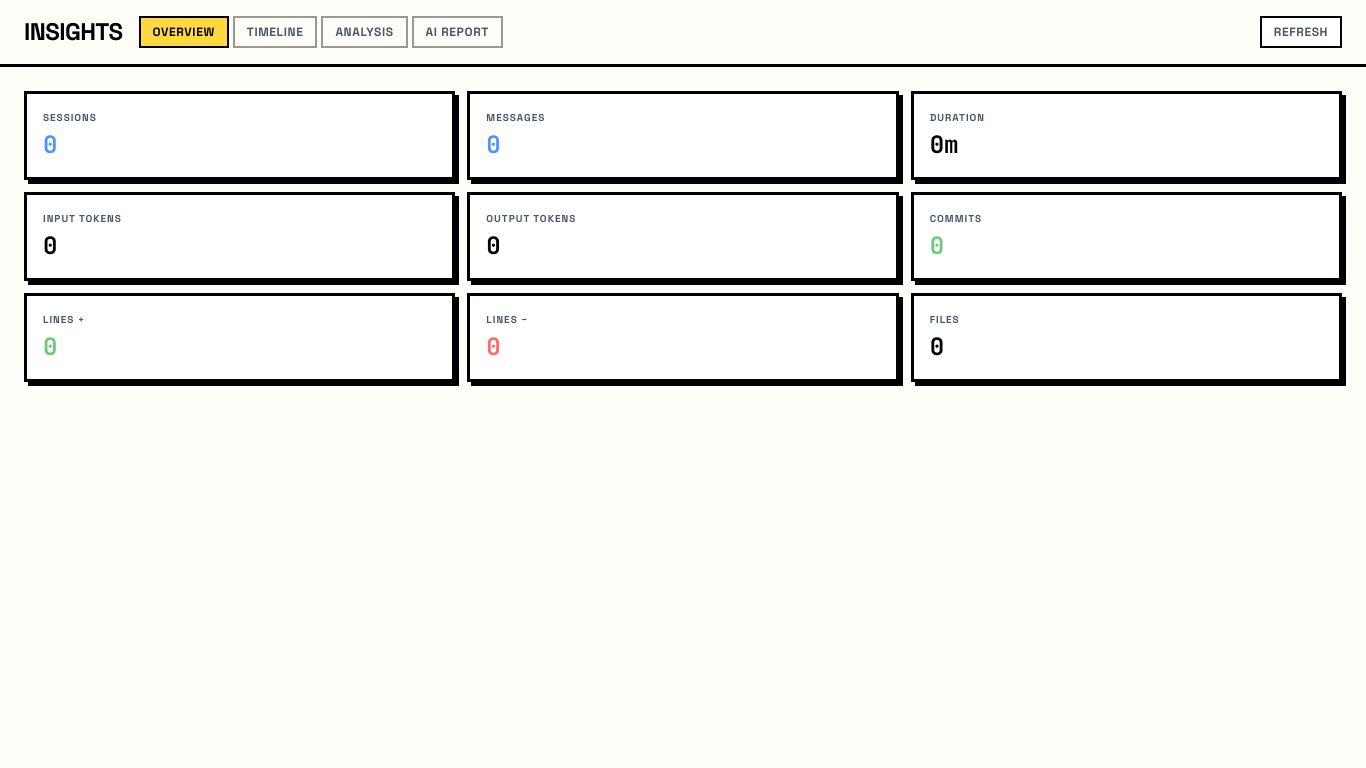
Test case: InsightsView › switches to timeline tab on click
Click the button with test id "tab-timeline".
click(275, 32)  # box [233,16,317,48]
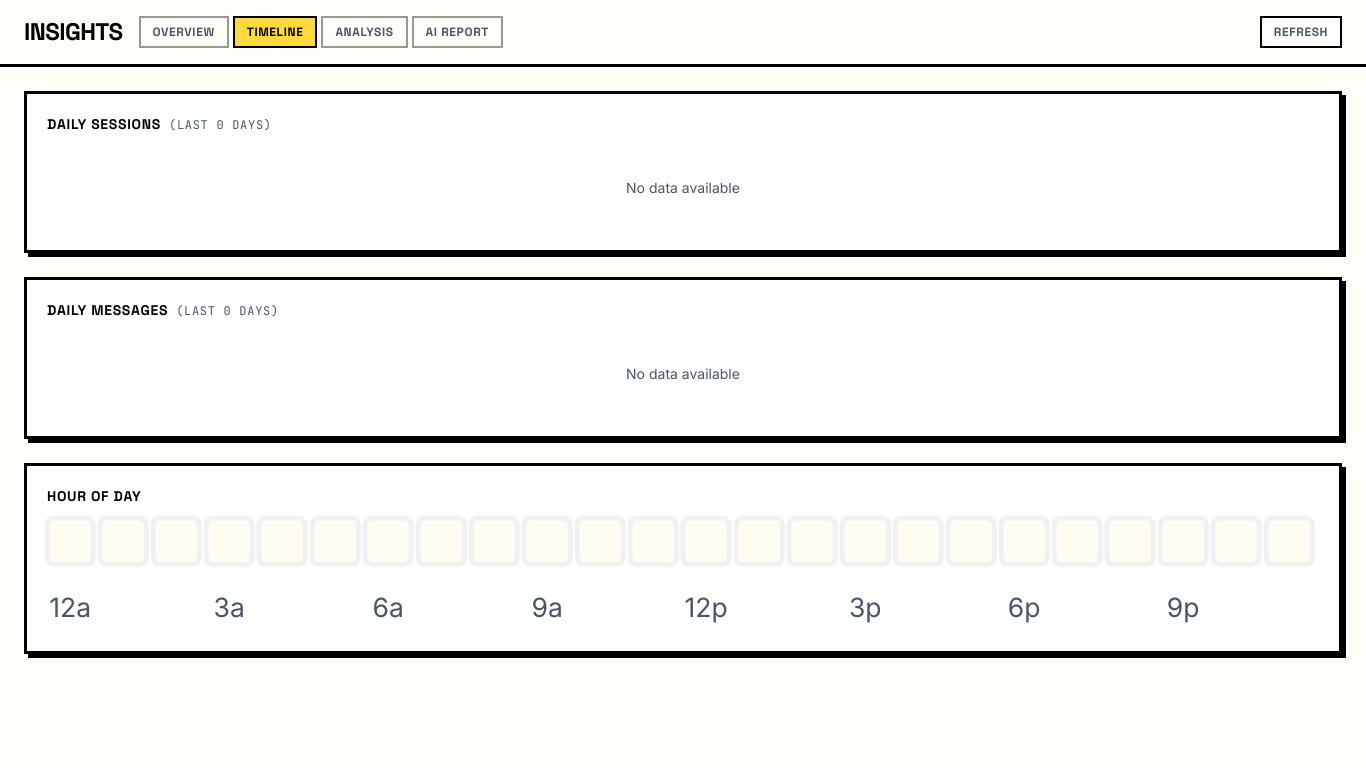
Check: the heading "Daily Sessions(last 0 days)" is shown, box [47,115,272,133]
Check: the heading "Daily Messages(last 0 days)" is shown, box [47,301,279,319]
Check: the heading "Hour of Day" is shown, box [47,487,142,505]
